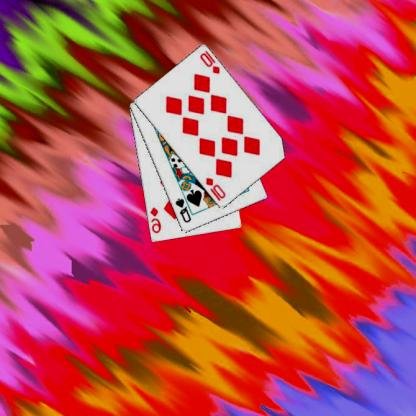10D: (199, 48, 223, 76), (205, 175, 228, 203)
9D: (149, 205, 164, 235)
QS: (174, 196, 194, 224)
